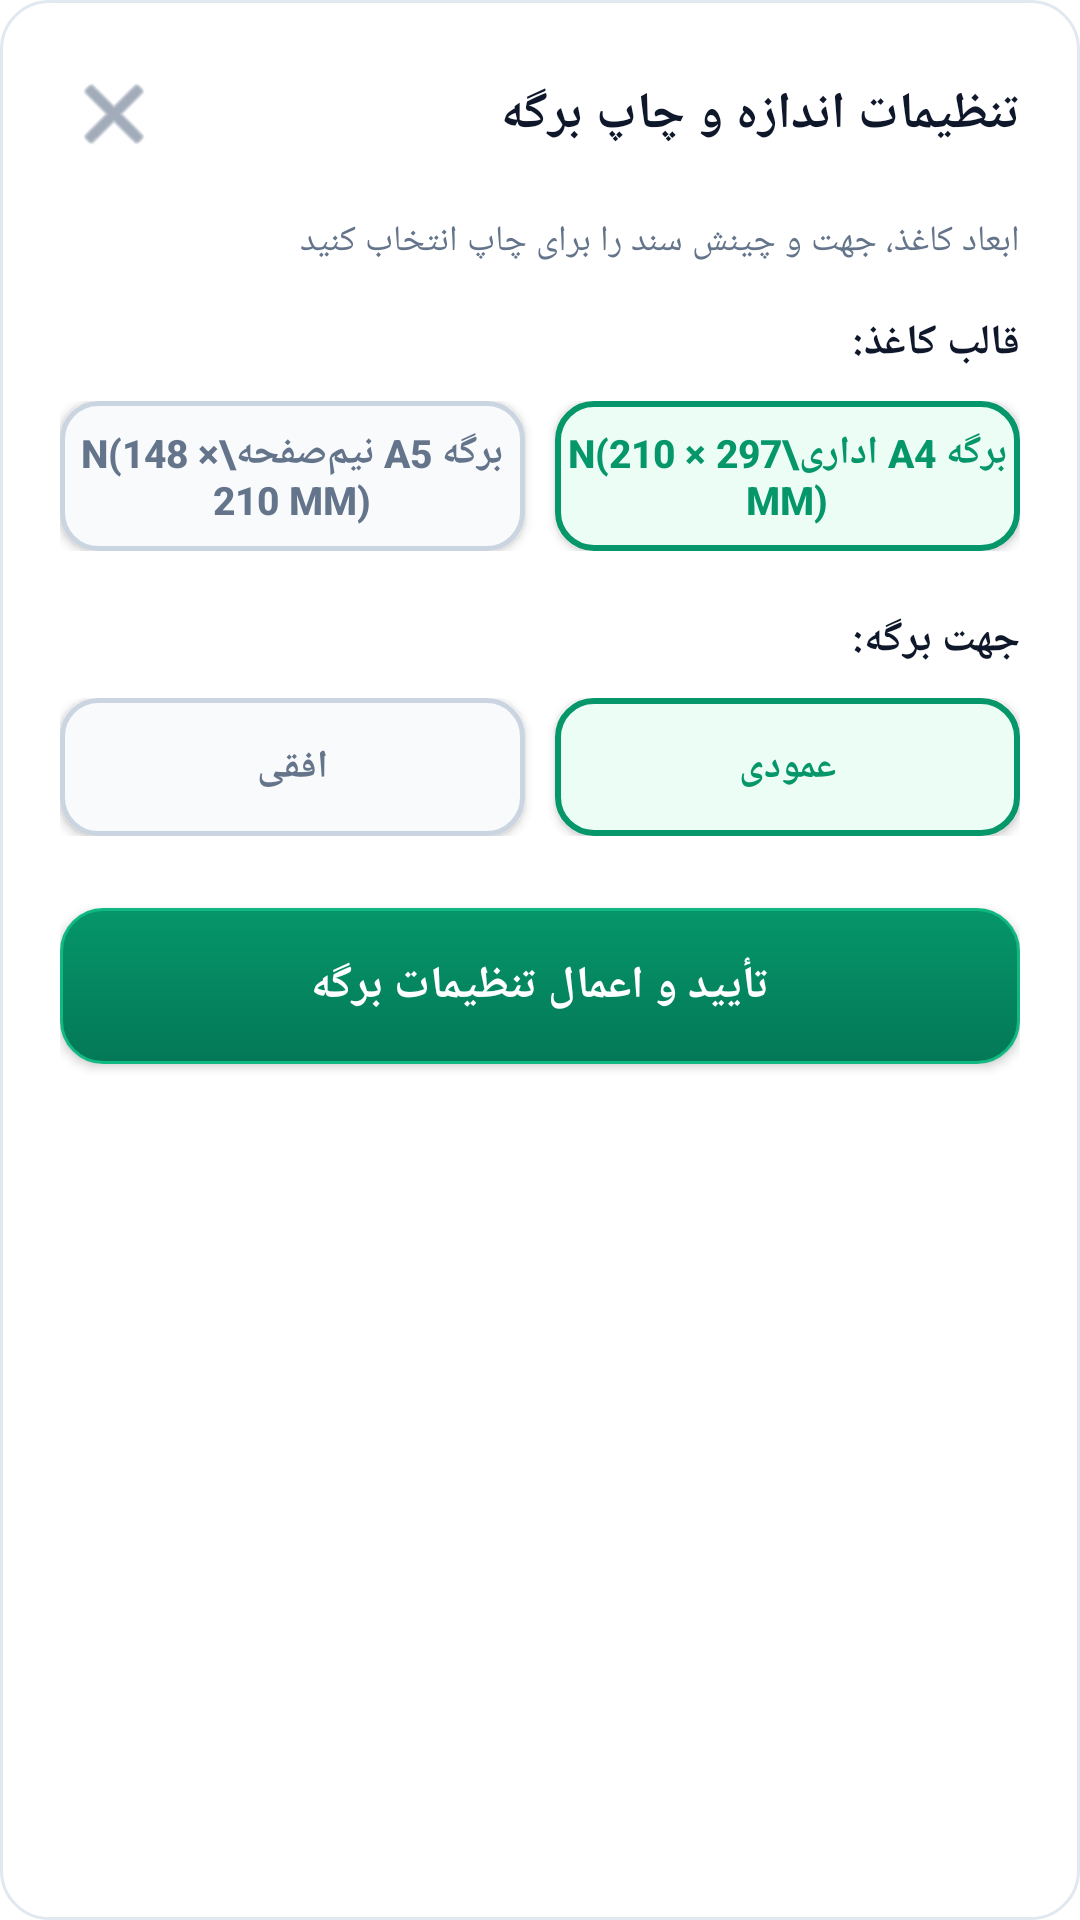

Named icons in this screenshot (1080w x 1920h) and their bounding boxes, (x1, y1, x2, y2):
بستن: (84, 84, 144, 144)
